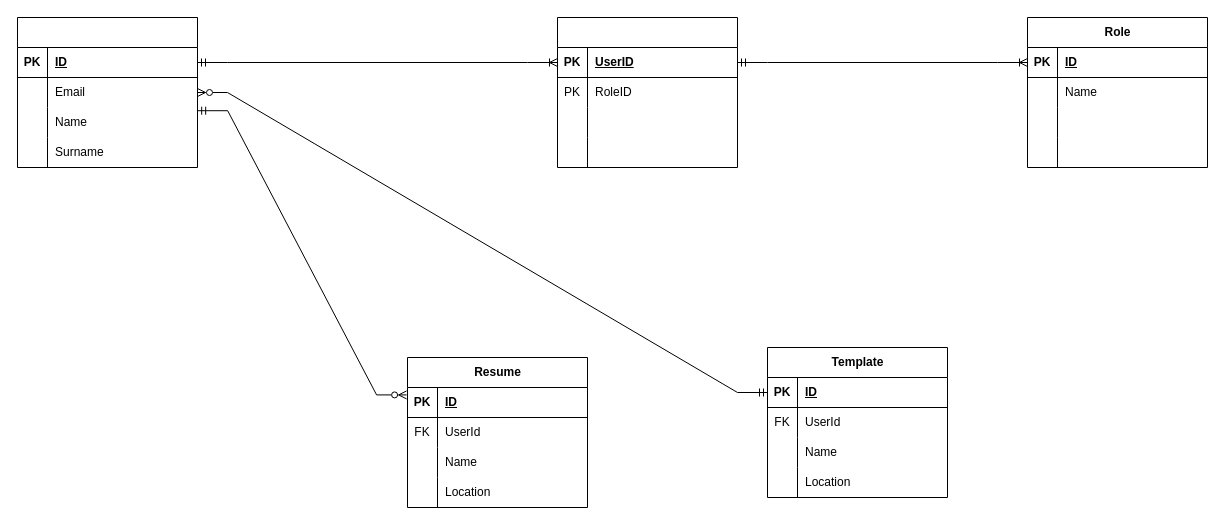
Some shapes in this 1225 by 525 pixel diagram are drawn without their labels. Here are the shapes that lost their labels. From the top down, the box of each, then its label:
(16, 16, 198, 168): User
(556, 16, 738, 168): UserRole
